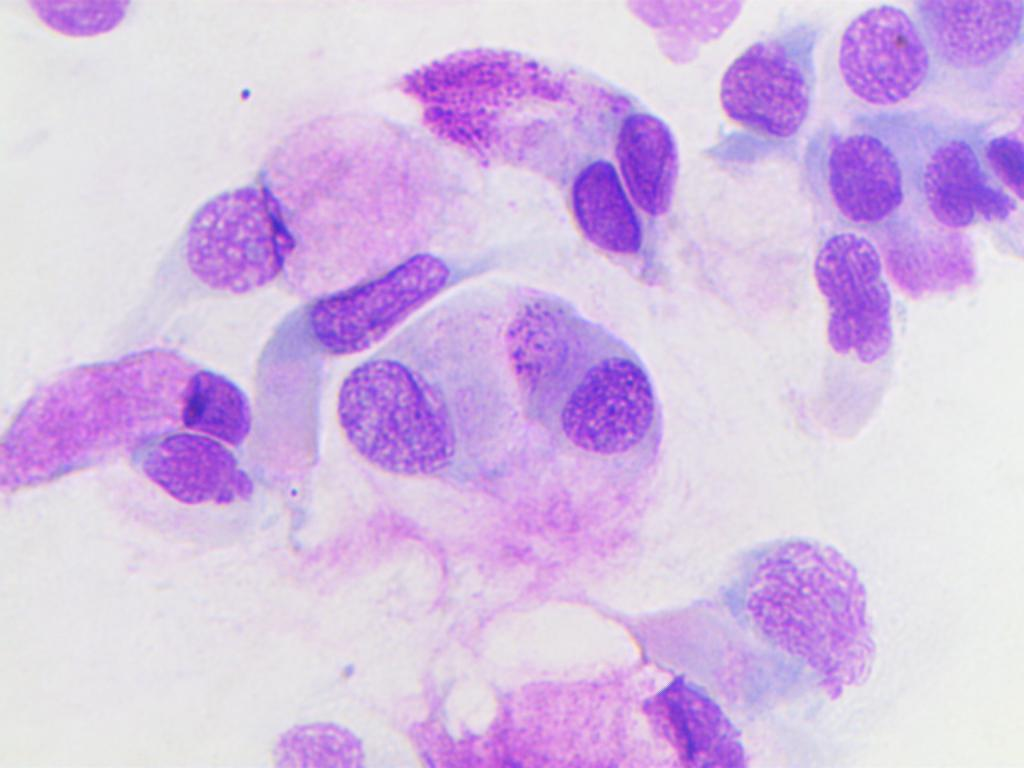ciliated: (409, 49, 680, 218), (418, 103, 648, 252), (253, 254, 452, 366)
epithelial: (715, 526, 897, 706), (803, 224, 905, 444), (694, 24, 818, 189), (544, 327, 676, 482), (331, 355, 455, 491), (125, 430, 265, 523), (899, 124, 1001, 240), (837, 7, 932, 107), (821, 113, 900, 227), (924, 0, 1023, 72)
goblet_cell: (176, 118, 425, 290), (408, 669, 763, 768), (0, 348, 255, 461)
